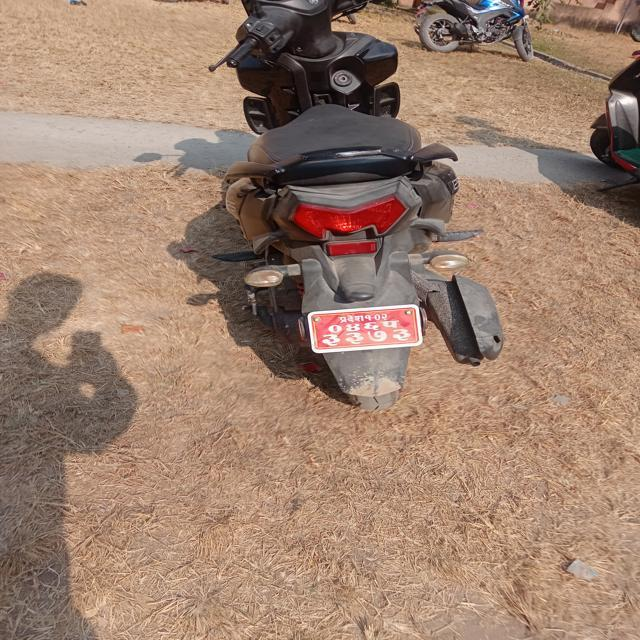license_plate: (310, 298, 442, 358)
